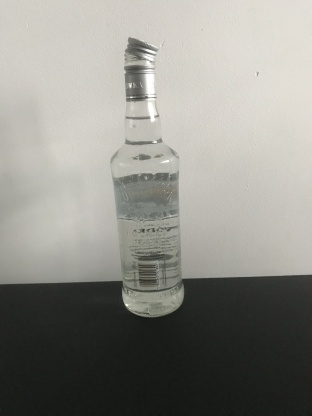nakretka: (122, 34, 159, 101)
